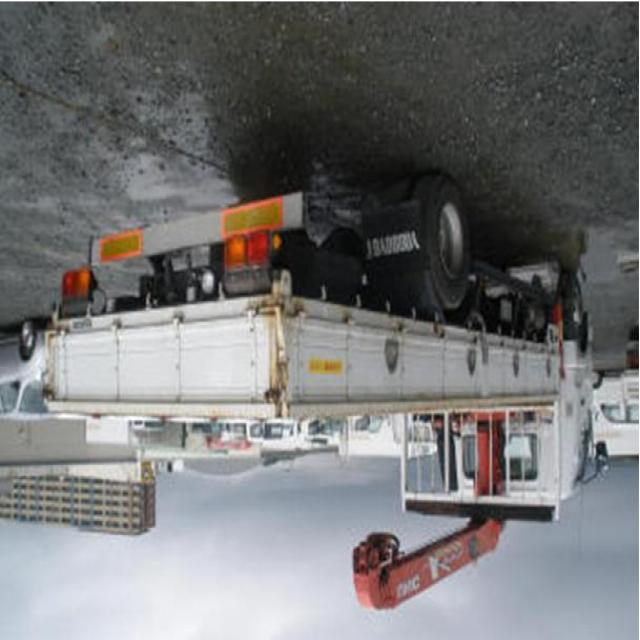truck: (45, 179, 609, 615)
